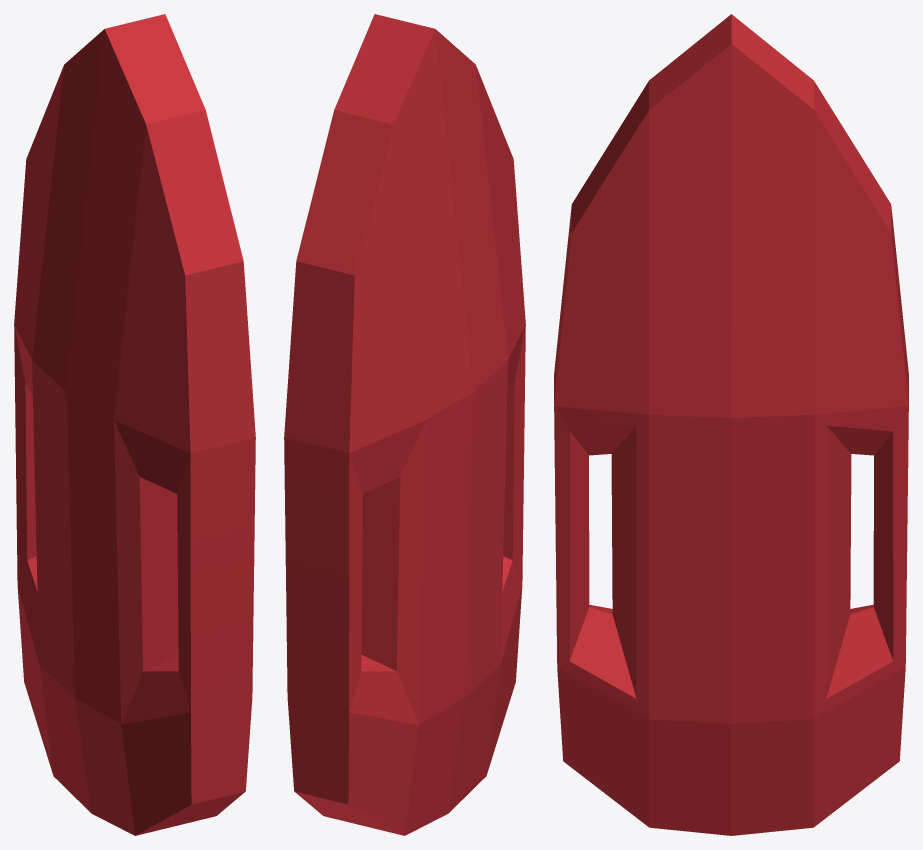
The model's file is beach_float.fbx.
The picture shows the model from 3 angles, left to right: view 1: azimuth 30°, elevation 25°; view 2: azimuth 150°, elevation 25°; view 3: azimuth 270°, elevation 25°; orthographic projection.
Parts seen in each view (by area): view 1: beach_float; view 2: beach_float; view 3: beach_float.
Part boxes in pixels (<box>): beach_float: <box>14,14,255,835</box>; beach_float: <box>284,14,525,835</box>; beach_float: <box>554,14,908,835</box>.
Bounding box in the file's own units: 36.64 × 200 × 81.84.
